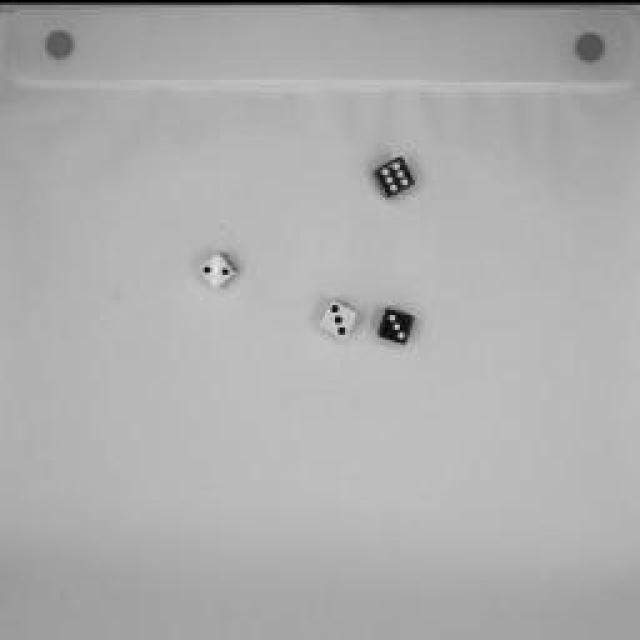dice_2: (195, 244, 240, 288)
dice_3: (314, 290, 364, 340), (372, 300, 418, 342)
dice_6: (369, 148, 419, 198)
